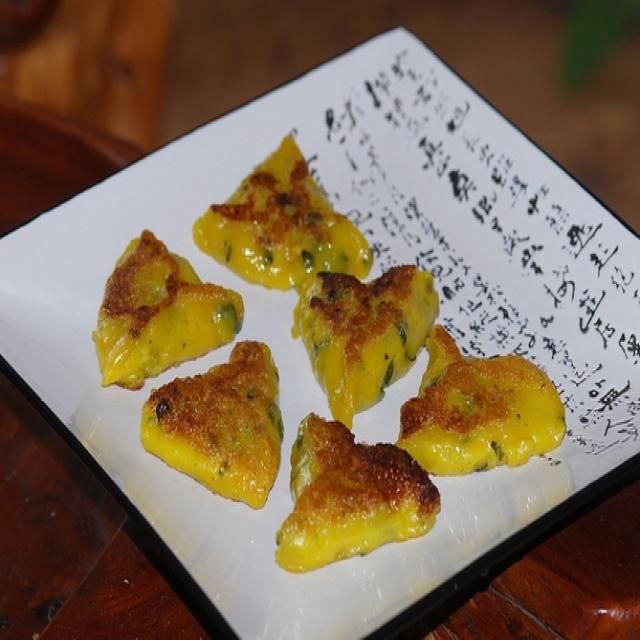炸货点心: (77, 108, 572, 587)
蛋糕甜品: (77, 108, 572, 587)
